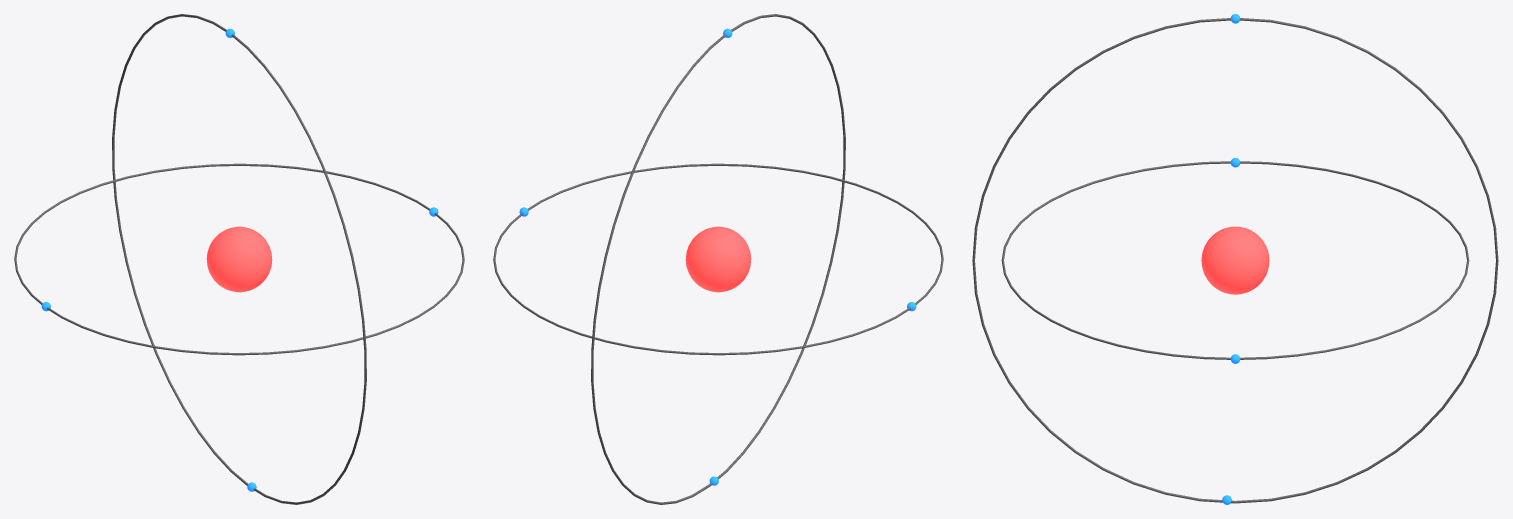
3 renders of one model, left to right at view 1: azimuth 30°, elevation 25°; view 2: azimuth 150°, elevation 25°; view 3: azimuth 270°, elevation 25°, orthographic. The views are drawn at different scales.
Visible parts, largest first — view 1: Orbit_2, Proton, Orbit_1; view 2: Orbit_2, Proton, Orbit_1; view 3: Orbit_2, Proton, Orbit_1.
Part boxes in pixels (left/top/right/bottom): Orbit_2: left=112, top=14, right=366, bottom=504; Proton: left=206, top=226, right=272, bottom=292; Orbit_1: left=14, top=163, right=464, bottom=355; Orbit_2: left=591, top=14, right=845, bottom=504; Proton: left=685, top=226, right=751, bottom=292; Orbit_1: left=493, top=163, right=943, bottom=355; Orbit_2: left=972, top=18, right=1498, bottom=503; Proton: left=1201, top=226, right=1269, bottom=294; Orbit_1: left=1001, top=161, right=1469, bottom=359.
Bounding box in the file's own units: 4.1 × 4.59 × 4.55.
